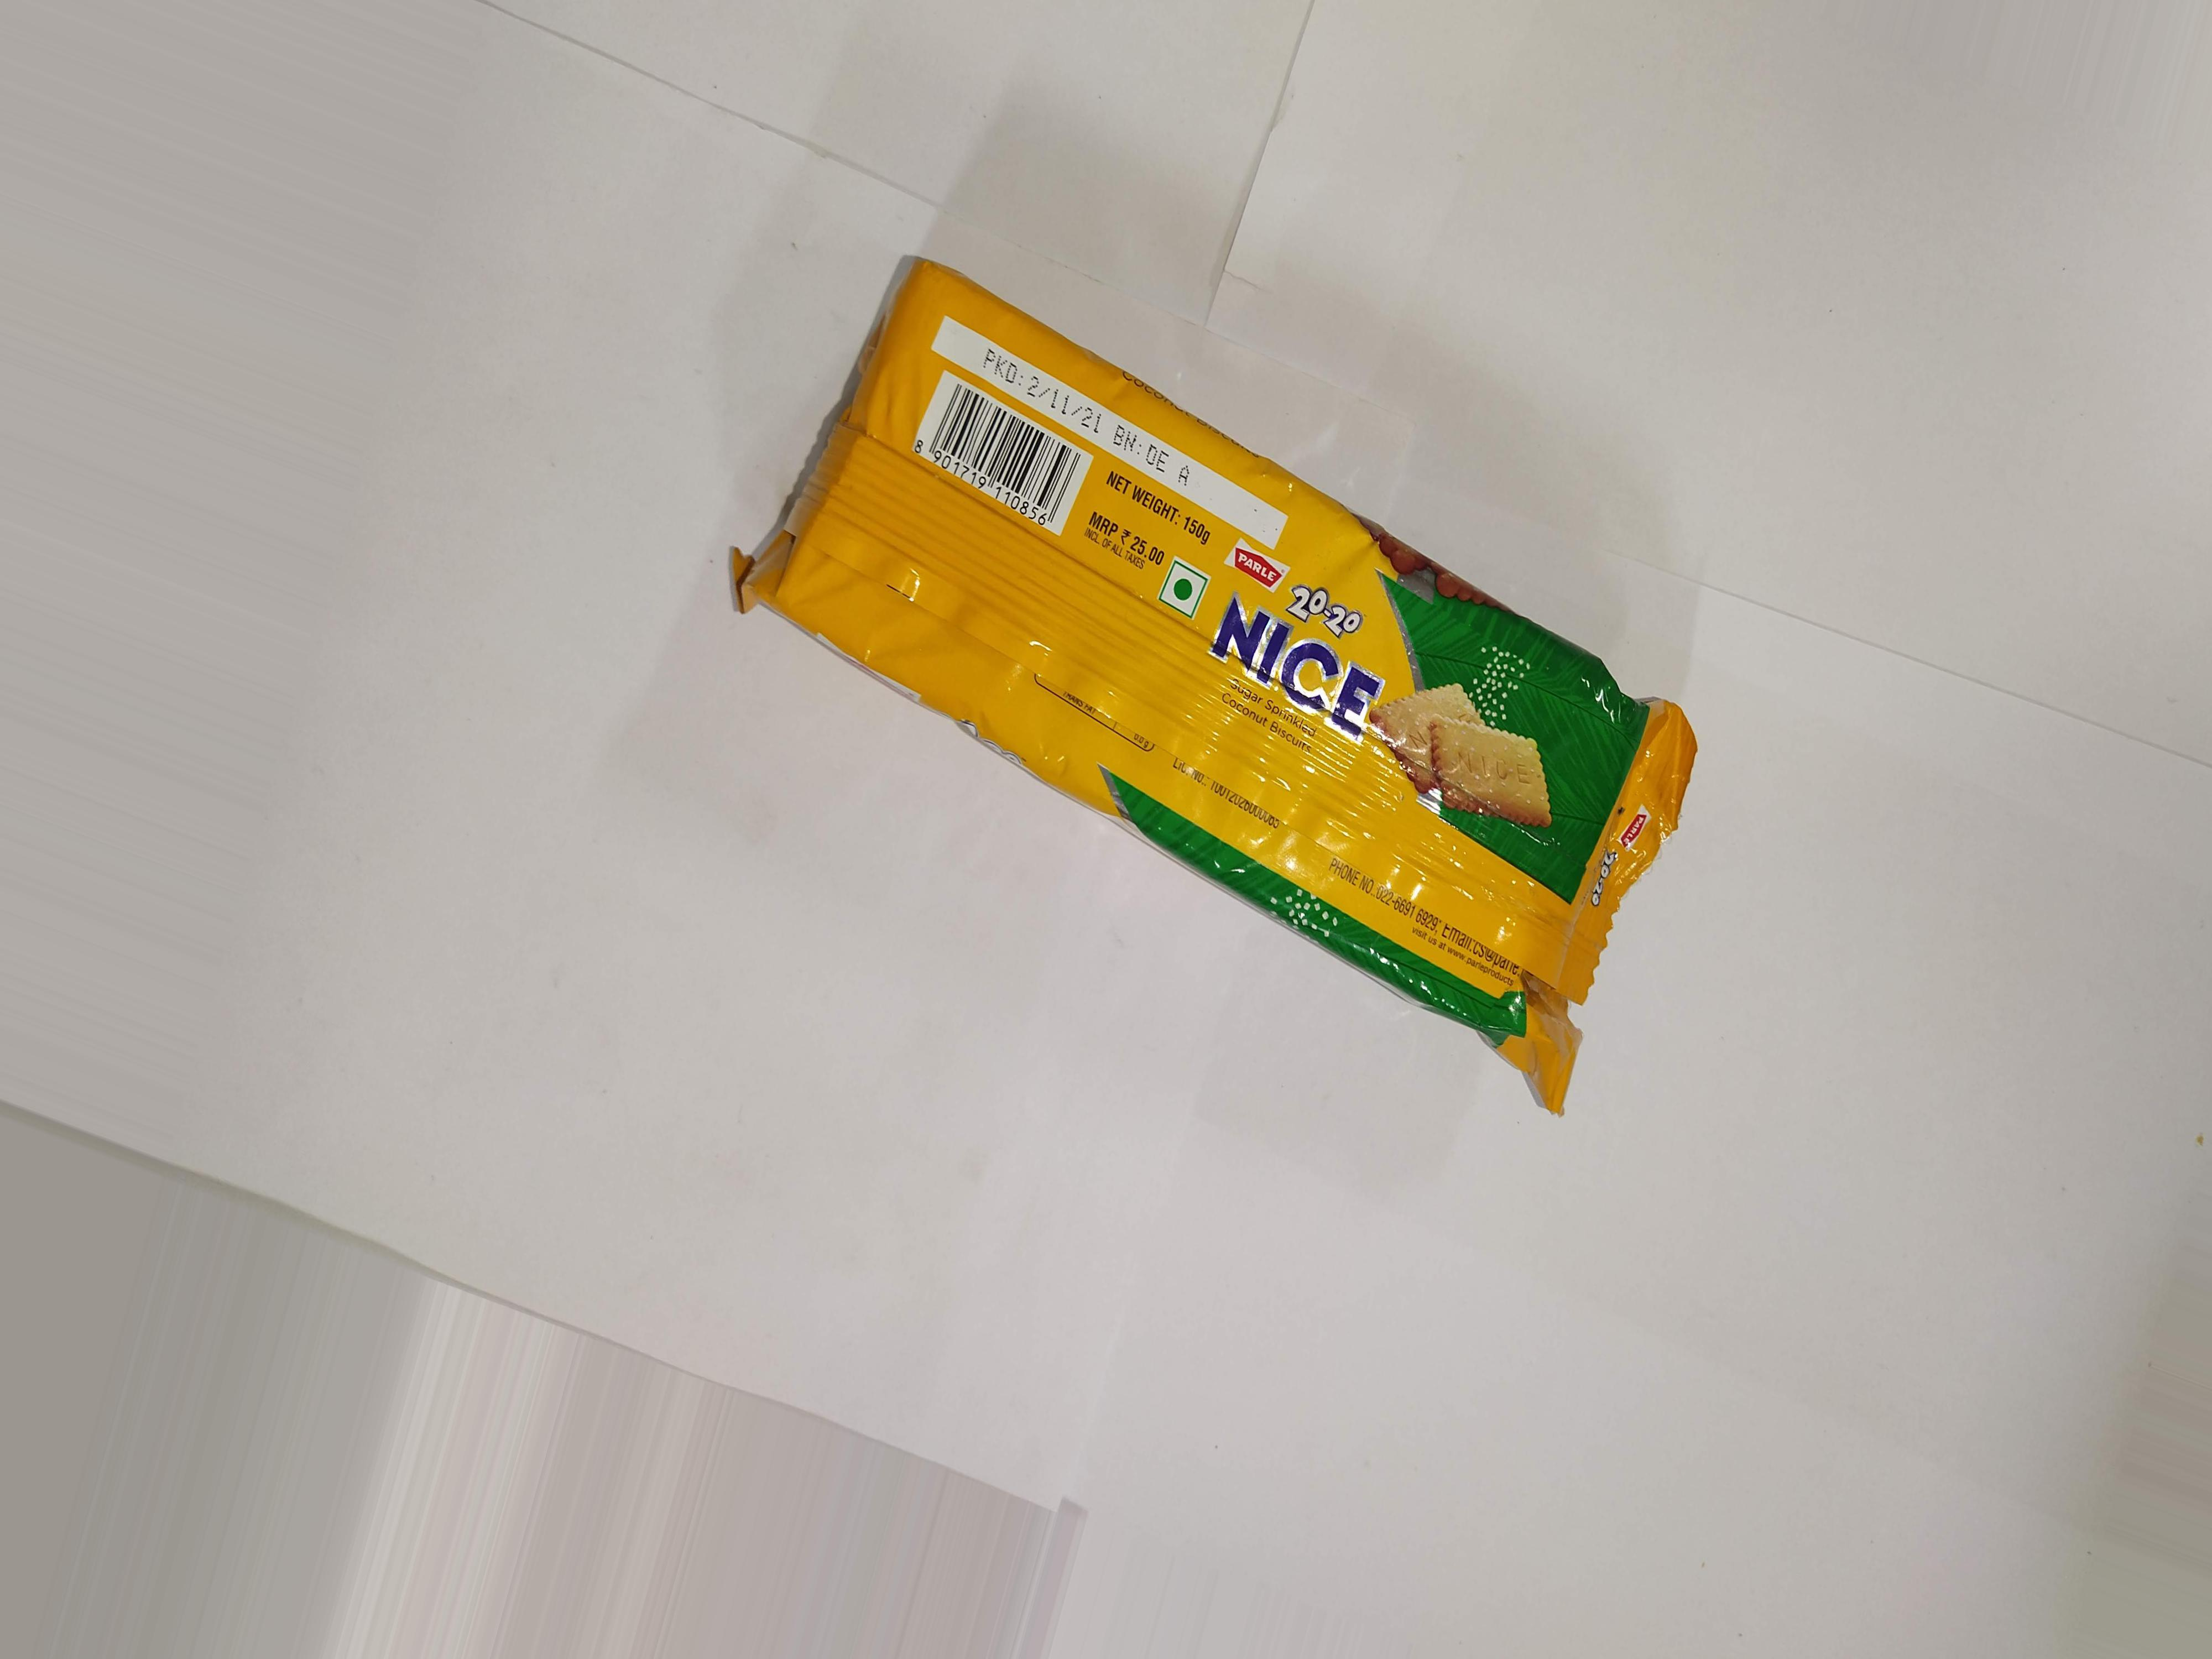Bar_code: (895, 352, 1101, 559)
Item: (613, 174, 1731, 1180)
